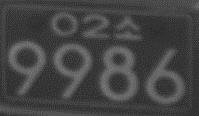0: (50, 11, 79, 37)
2: (80, 12, 111, 39)
6: (145, 46, 186, 105)
8: (98, 44, 139, 102)
9: (52, 42, 93, 99), (7, 39, 46, 97)
소: (114, 14, 142, 40)
